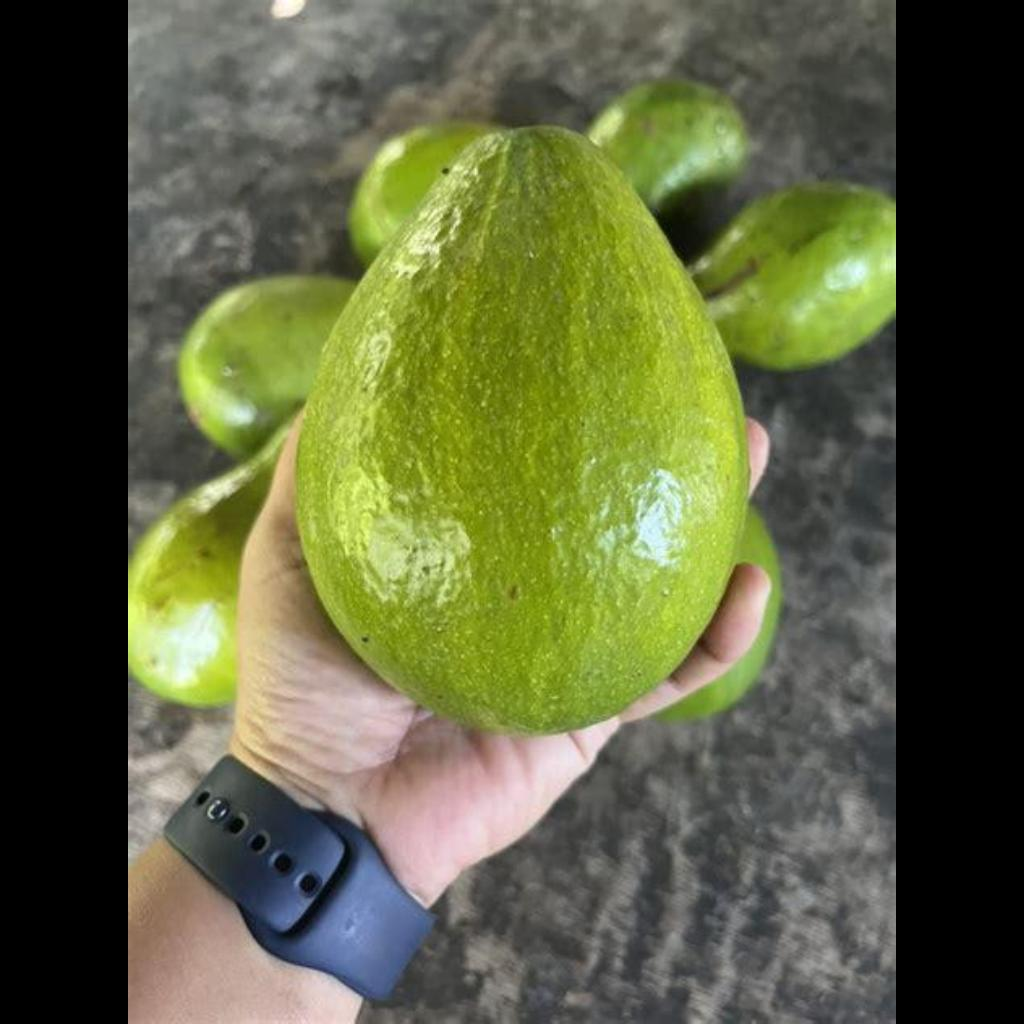fruto_sano: (284, 122, 744, 728)
